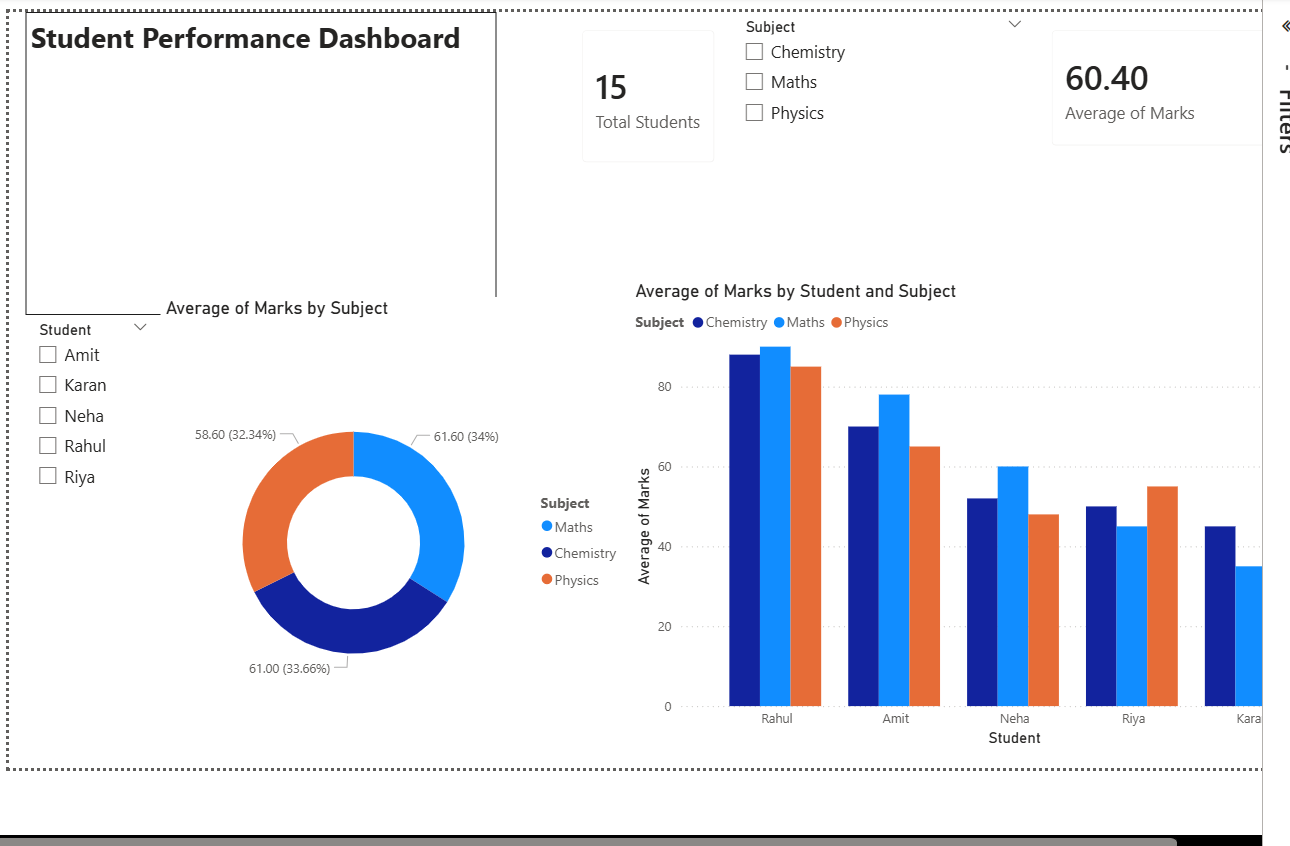

Layout of this report page (visuals, bound fields, positions):
{"tool":"powerbi","page":{"name":"Page 2","canvas":[1280,720],"ordinal":1},"visuals":[{"type":"textbox","box":[16,0,448,288],"z":0},{"type":"cardVisual","fields":{"Data":["CountNonNull(StudentData.Student)"]},"box":[528,0,160,160],"z":1000},{"type":"cardVisual","fields":{"Data":["Avg(StudentData.Marks)"]},"box":[976,0,304,144],"z":2000},{"type":"donutChart","fields":{"Category":["StudentData.Subject"],"Y":["Avg(StudentData.Marks)"]},"box":[144,272,448,448],"z":3000},{"type":"slicer","fields":{"Values":["StudentData.Student"]},"box":[16,288,128,432],"z":4000},{"type":"lineClusteredColumnComboChart","fields":{"Category":["StudentData.Student"],"Y":["Avg(StudentData.Marks)"],"Series":["StudentData.Subject"]},"box":[592,256,688,448],"z":5000},{"type":"slicer","fields":{"Values":["StudentData.Subject"]},"box":[688,0,288,160],"z":6000}]}

Visuals, with their boxes on the page's 1280x720 design canvas (x1, y1, x2, y2). These are canvas units, not pixel positions in the 1290x846 screenshot, which may show the page scaled, cropped or inside an application window:
textbox: x1=16, y1=0, x2=464, y2=288
cardVisual - CountNonNull(StudentData.Student): x1=528, y1=0, x2=688, y2=160
cardVisual - Avg(StudentData.Marks): x1=976, y1=0, x2=1280, y2=144
donutChart - StudentData.Subject x Avg(StudentData.Marks): x1=144, y1=272, x2=592, y2=720
slicer - StudentData.Student: x1=16, y1=288, x2=144, y2=720
lineClusteredColumnComboChart - StudentData.Student x Avg(StudentData.Marks): x1=592, y1=256, x2=1280, y2=704
slicer - StudentData.Subject: x1=688, y1=0, x2=976, y2=160
